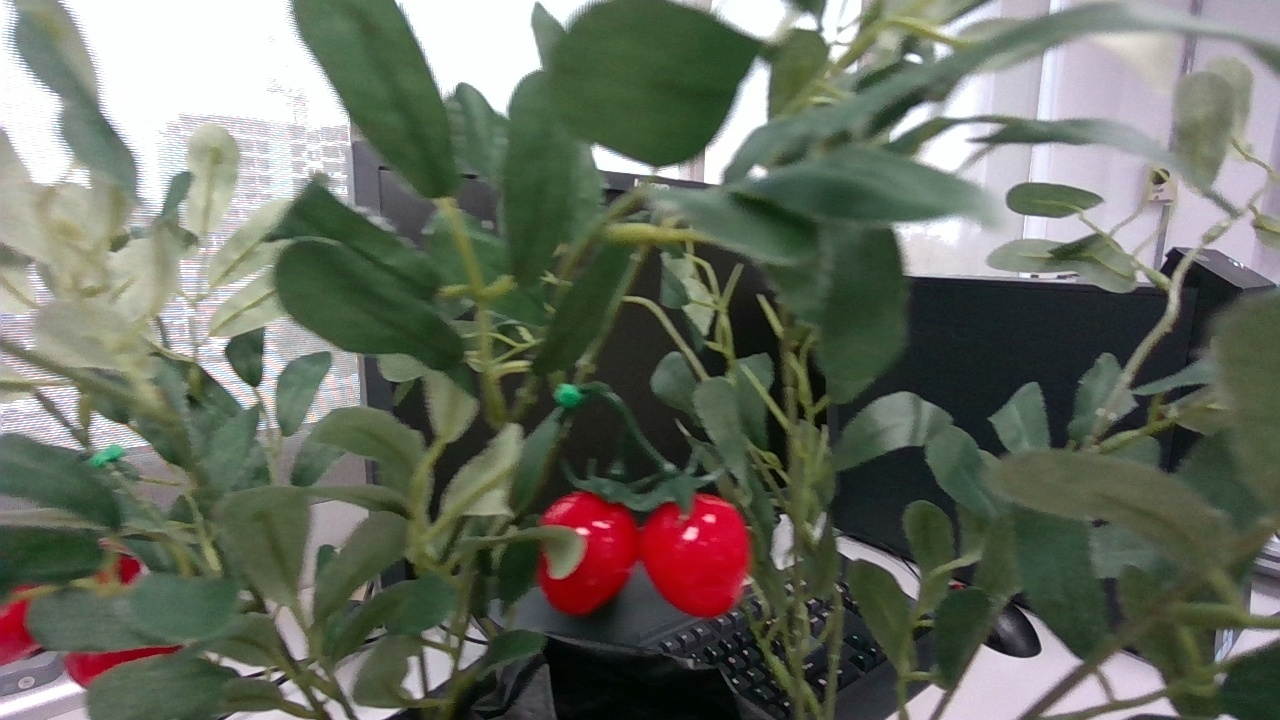peduncle: (595, 381, 635, 425)
strawberry: (640, 494, 751, 618), (537, 491, 639, 616), (0, 601, 39, 666)
